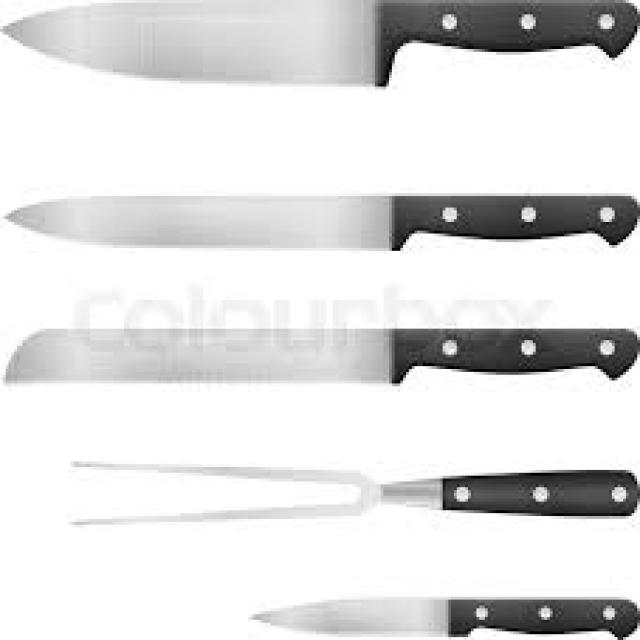Knife: (3, 190, 637, 251), (68, 458, 637, 525), (3, 326, 637, 383), (248, 594, 637, 637)
